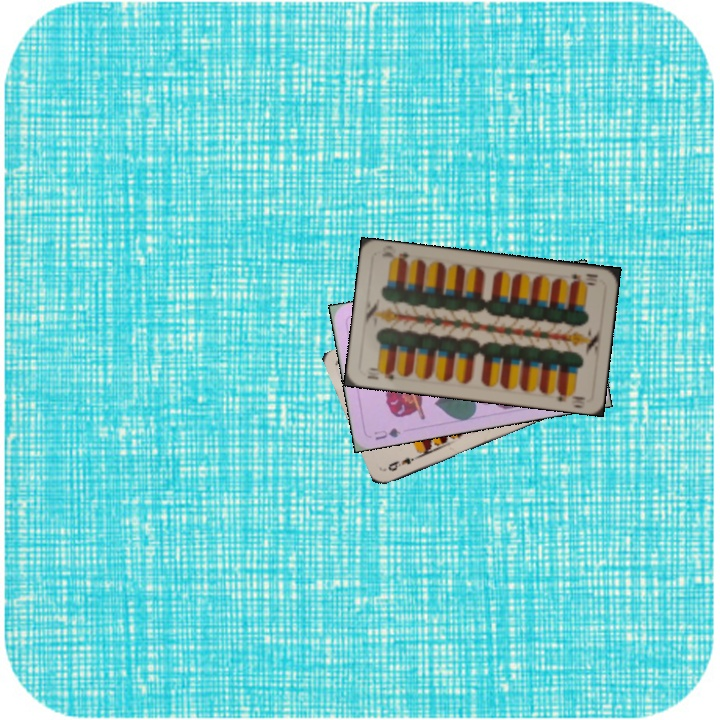E10: (363, 363, 396, 382), (567, 269, 600, 288)
E9: (384, 452, 421, 474)
GU: (370, 424, 403, 443)
